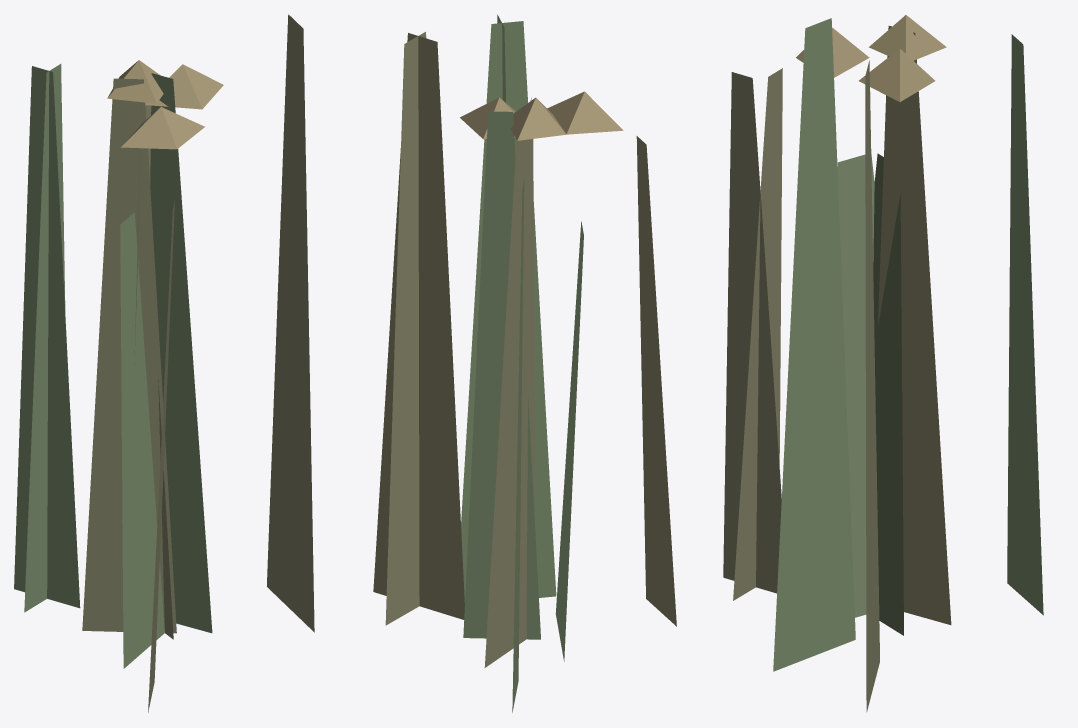
Rendered from shrub.sub.reed_clump__winter.glb.
The picture shows the model from 3 angles, left to right: view 1: azimuth 30°, elevation 25°; view 2: azimuth 150°, elevation 25°; view 3: azimuth 270°, elevation 25°; orthographic projection. The views are drawn at different scales.
Parts seen in each view (by area): view 1: shrub.sub.reed_clump__winter; view 2: shrub.sub.reed_clump__winter; view 3: shrub.sub.reed_clump__winter.
Boxes of the visible parts, <box> form: shrub.sub.reed_clump__winter: <box>14,14,314,712</box>; shrub.sub.reed_clump__winter: <box>373,14,676,712</box>; shrub.sub.reed_clump__winter: <box>723,15,1043,712</box>.
Bounding box in the file's own units: 0.9425 × 1.99 × 0.9655.
